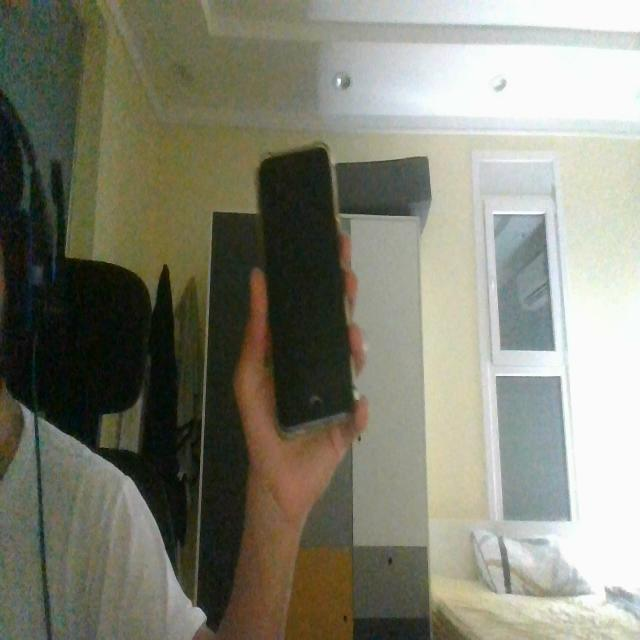Phone: (252, 140, 361, 442)
